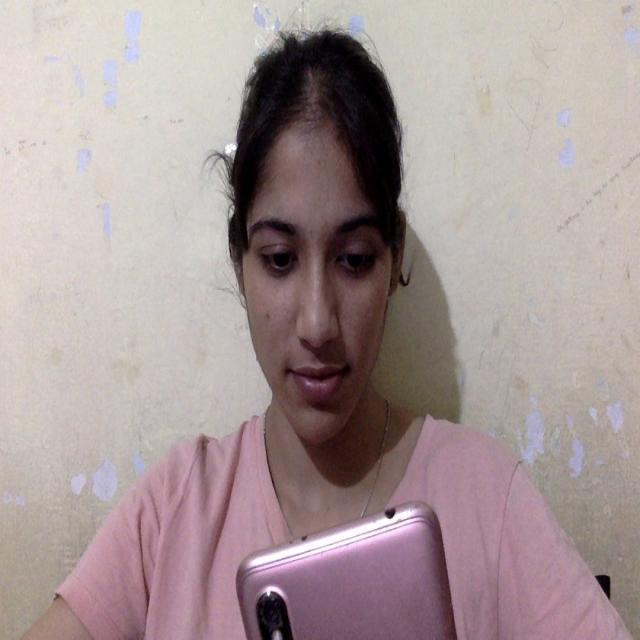Phone: (234, 501, 456, 640)
